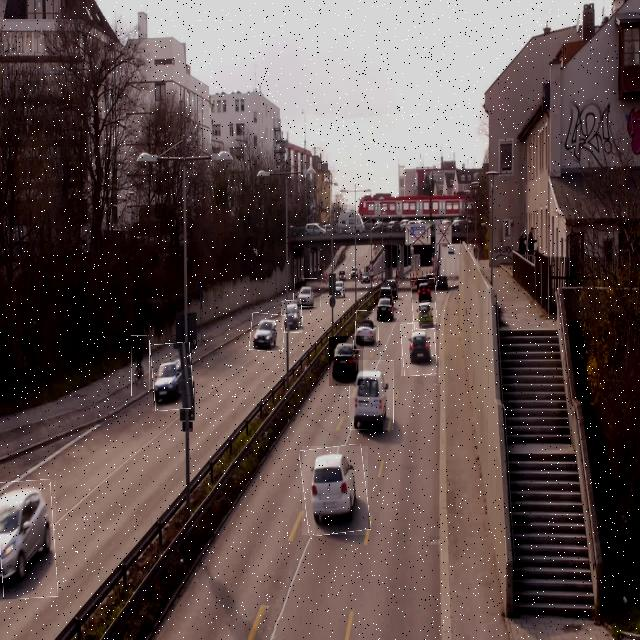Car: (0, 480, 56, 598), (302, 446, 368, 535), (350, 360, 394, 430), (152, 343, 193, 411), (401, 322, 436, 376), (329, 336, 364, 386), (250, 313, 285, 352), (355, 311, 378, 350), (294, 278, 321, 307), (412, 300, 437, 330), (374, 292, 396, 322), (282, 300, 302, 333), (411, 278, 436, 303)
Motorcycle: (132, 335, 150, 400)
